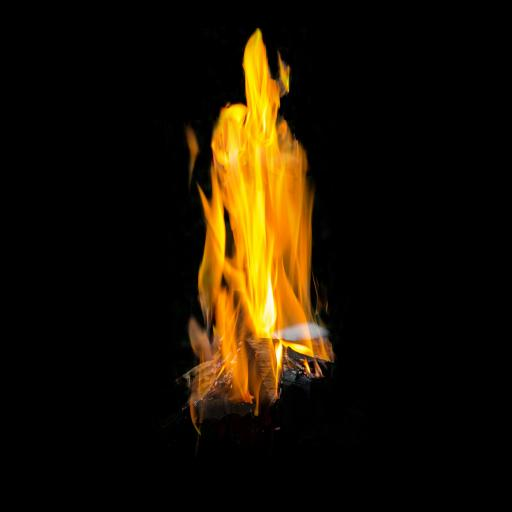fire: (155, 27, 371, 423)
